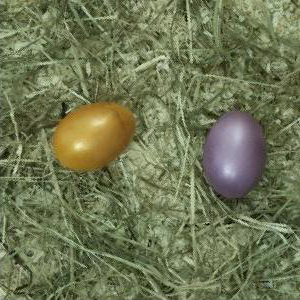egg: (52, 102, 135, 172), (204, 110, 268, 199)
